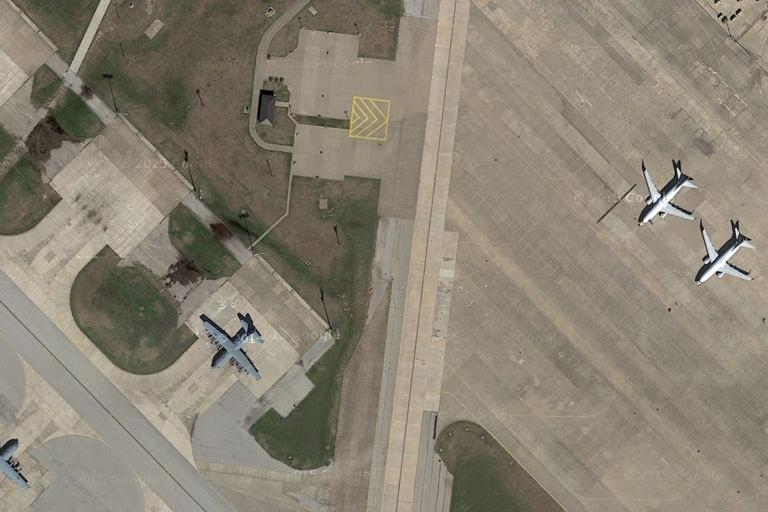C-130: (203, 315, 265, 381)
P-8A: (635, 159, 696, 225), (697, 223, 756, 288)
